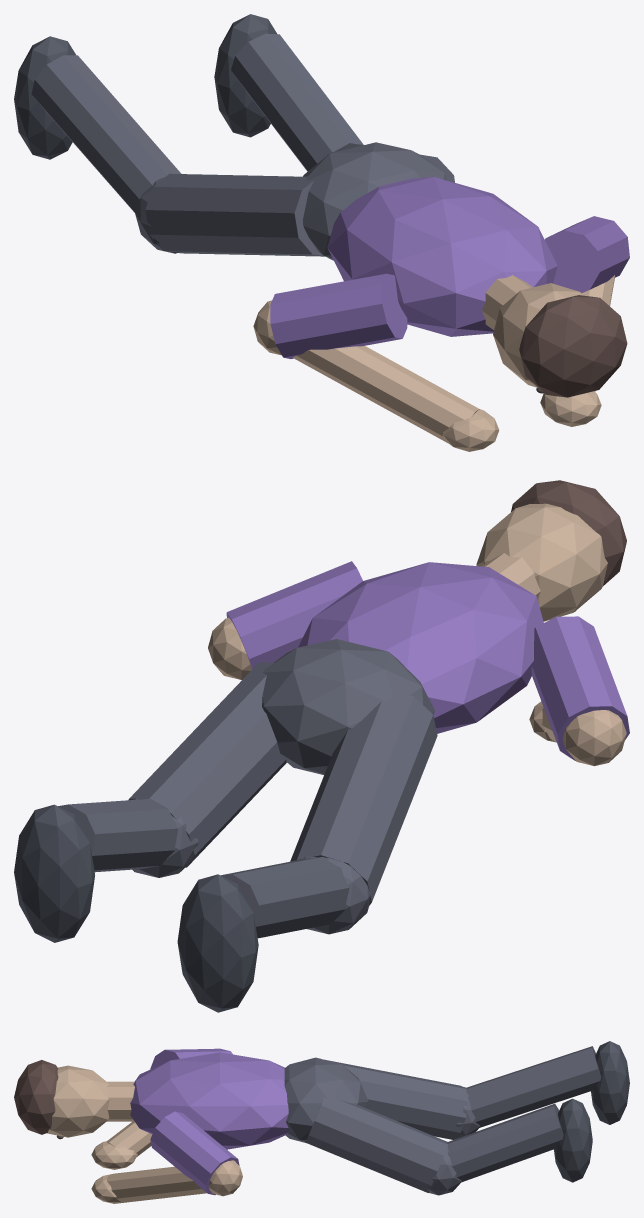
The picture shows the model from 3 angles, top to bottom: view 1: azimuth 30°, elevation 25°; view 2: azimuth 150°, elevation 25°; view 3: azimuth 270°, elevation 25°; orthographic projection. The views are drawn at different scales.
Visible parts, largest first — view 1: world; view 2: world; view 3: world.
Boxes of the visible parts, box(x1,y1,x2,y2) form: world: box(14, 14, 629, 451); world: box(14, 480, 629, 1012); world: box(14, 1041, 629, 1203).
Bounding box in the file's own units: 0.93 × 0.4363 × 1.99.
